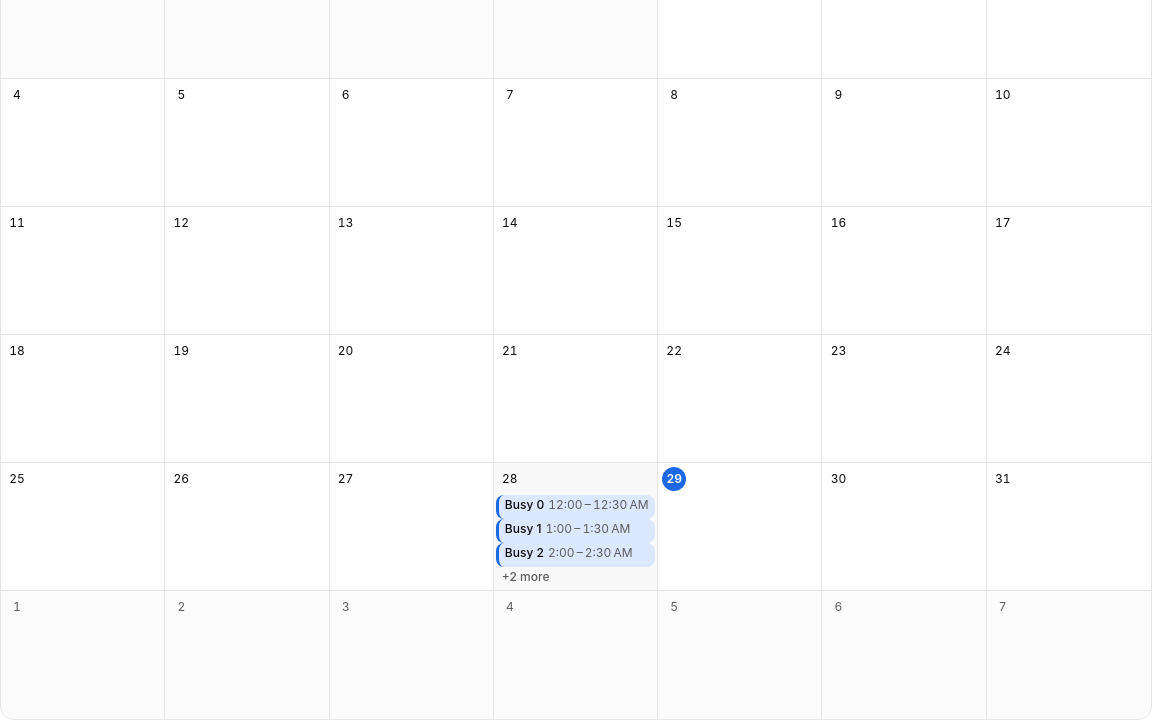
Test: <Calendar> month view › collapses overflow into a "+N more" popover
The width and height of the screenshot is (1152, 720).
(page scrolled)
Click the button with aria-label "Show 2 more events" at coordinates (526, 577), box [496,567,555,587]
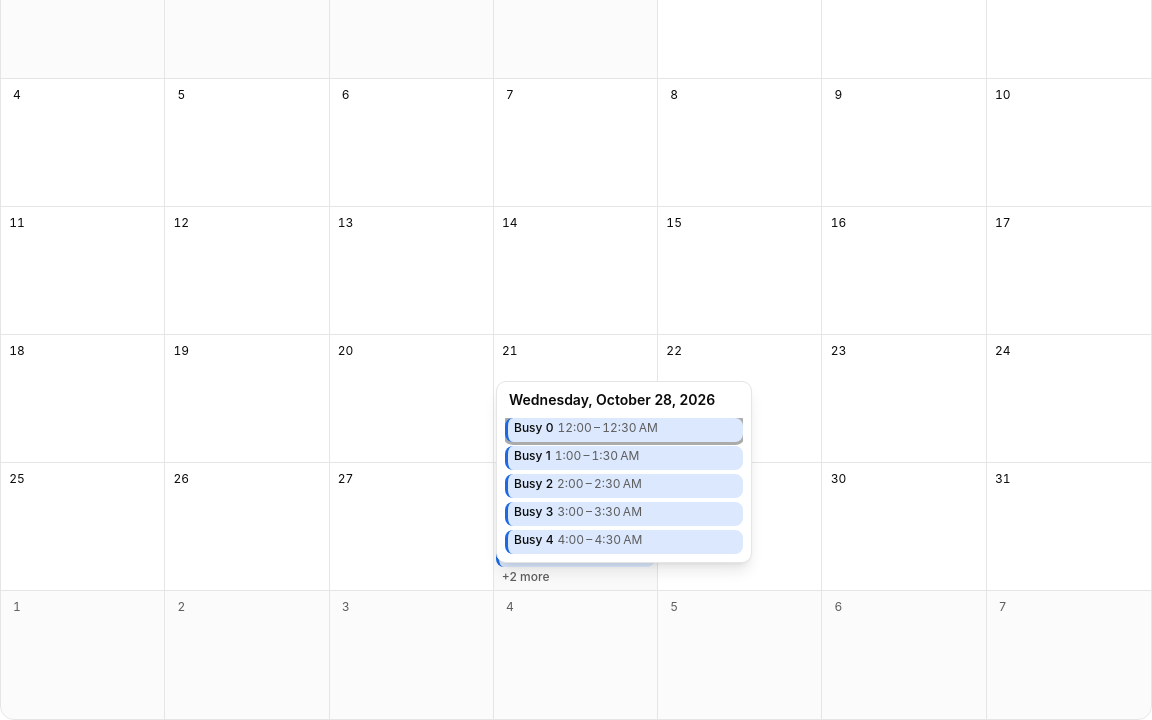
Check: the number of buttons "Busy 0 12:00 – 12:30 AM" is 5, box [505,418,743,442]; [505,446,743,470]; [505,474,743,498]; [505,502,743,526]; [505,530,743,554]
